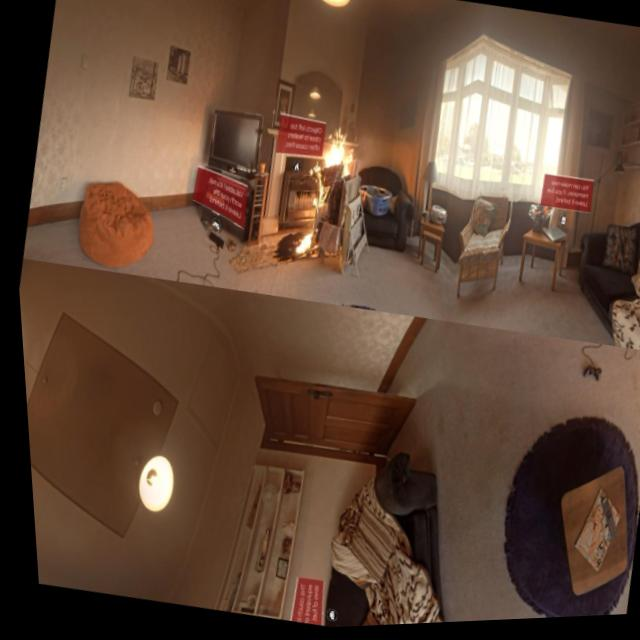fire: (299, 123, 360, 218), (281, 218, 322, 271)
